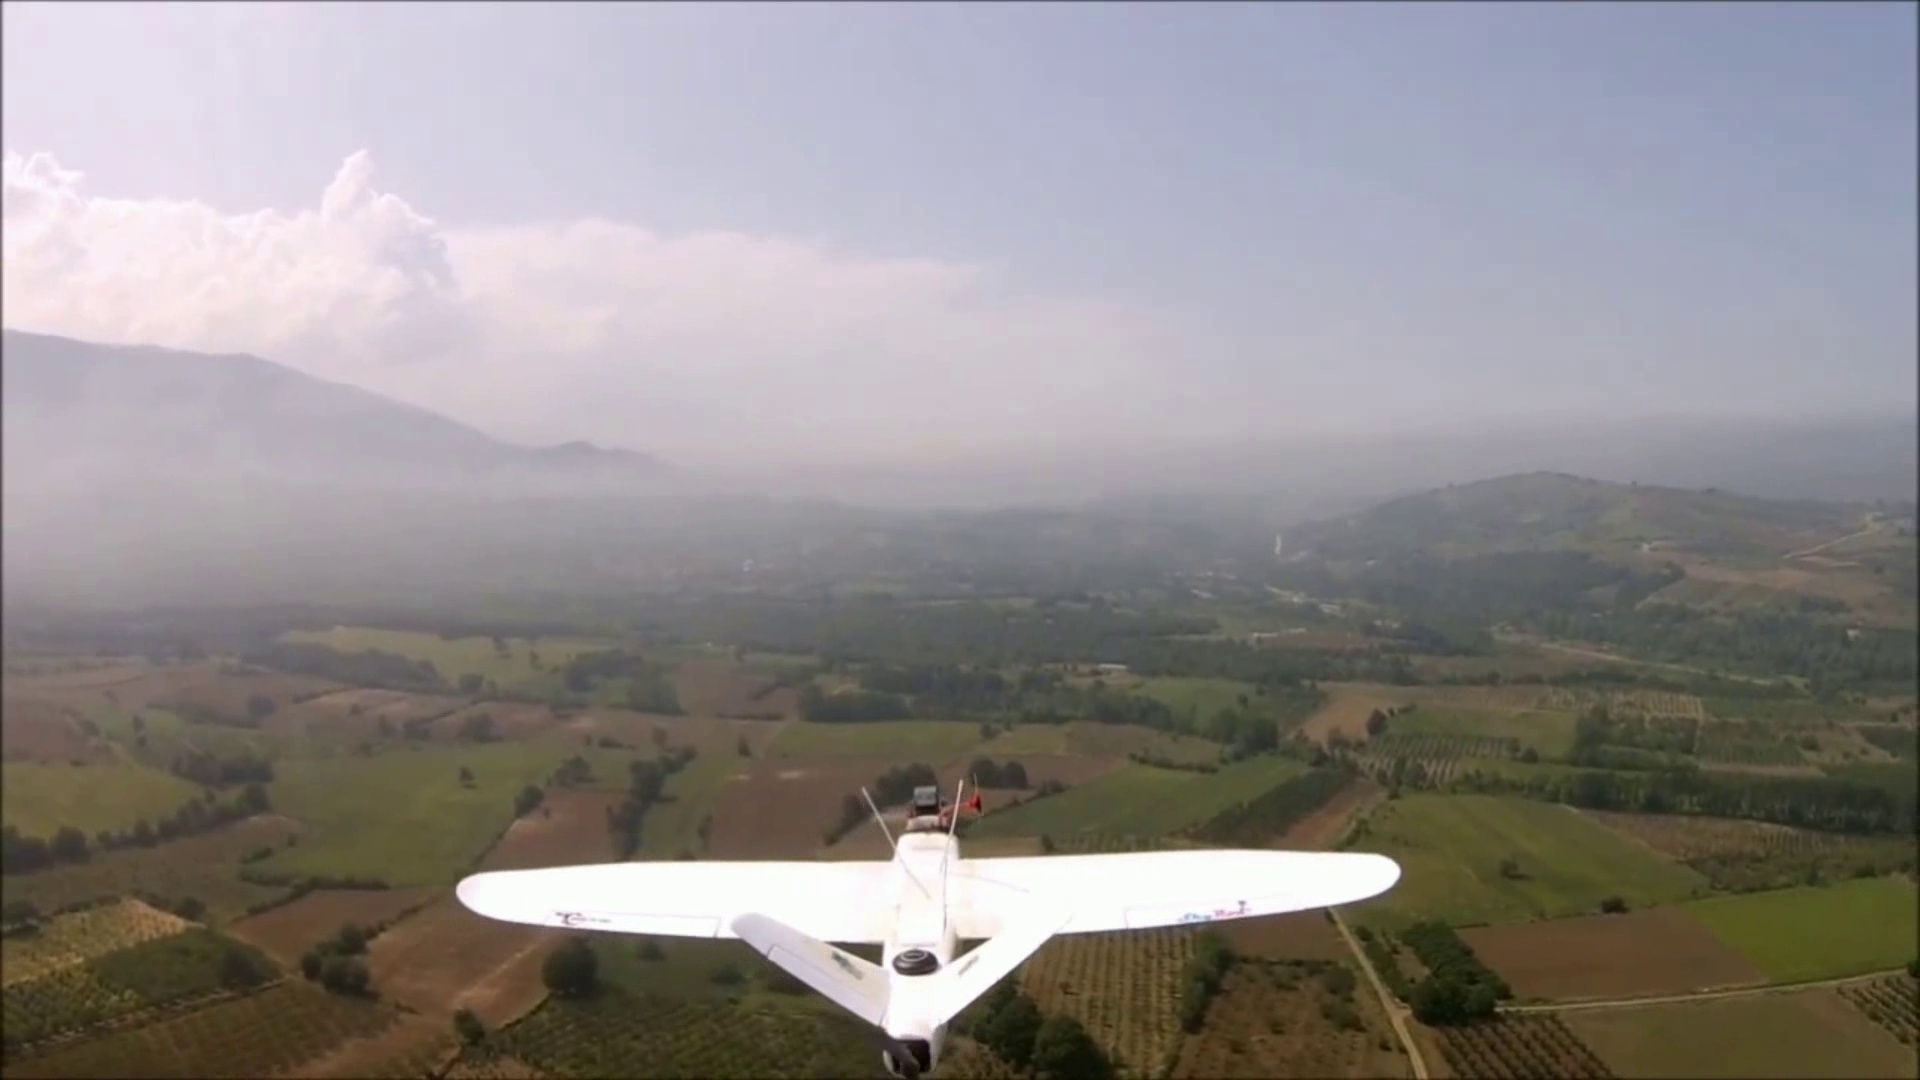airplane: (454, 762, 1403, 1072)
